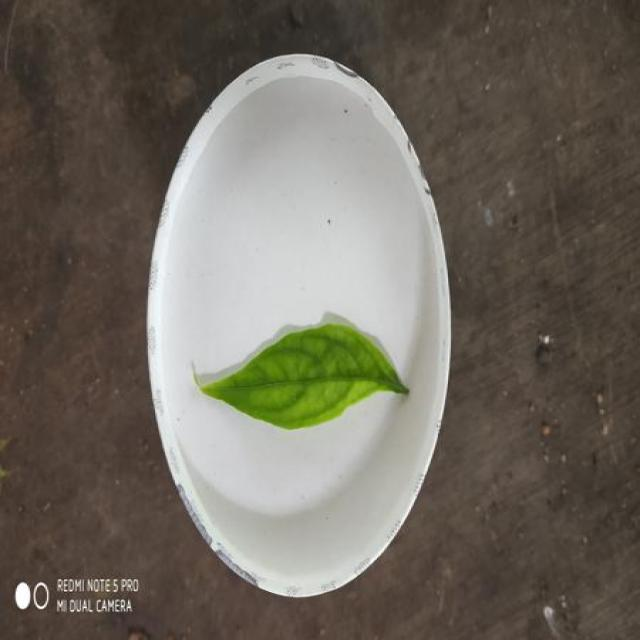Nelavembu: (202, 324, 408, 429)
